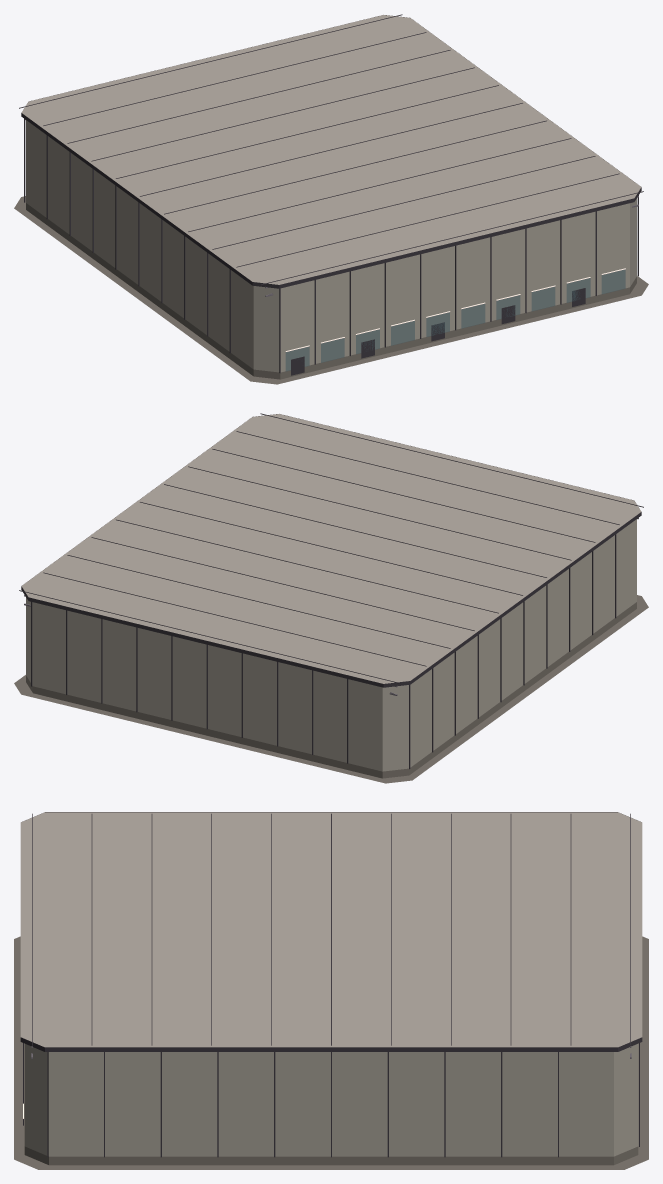
File: shell.glb
3 views of the same model, one above another, from view 1: azimuth 30°, elevation 25°; view 2: azimuth 150°, elevation 25°; view 3: azimuth 270°, elevation 25° (orthographic). The views are drawn at different scales.
Visible parts, largest first — view 1: shell_roof_canopy, shell_bowl_mass_cladding, shell_roof_canopy_fascia, shell_bowl_mass_suite_glass_lobby, shell_bowl_mass_plinth, shell_field_floor_apron, shell_bowl_mass_facade_panels, shell_bowl_mass_portal_frames; view 2: shell_roof_canopy, shell_bowl_mass_cladding, shell_roof_canopy_fascia, shell_bowl_mass_plinth, shell_field_floor_apron, shell_bowl_mass_facade_panels; view 3: shell_roof_canopy, shell_bowl_mass_cladding, shell_roof_canopy_fascia, shell_field_floor_apron, shell_bowl_mass_plinth, shell_bowl_mass_facade_panels.
Part boxes in pixels (x1,y1,x2,y2): shell_roof_canopy: (21, 15, 641, 284); shell_bowl_mass_cladding: (26, 120, 636, 372); shell_roof_canopy_fascia: (19, 14, 643, 288); shell_bowl_mass_suite_glass_lobby: (285, 269, 625, 371); shell_bowl_mass_plinth: (26, 203, 636, 379); shell_field_floor_apron: (14, 196, 648, 384); shell_bowl_mass_facade_panels: (24, 118, 638, 373); shell_bowl_mass_portal_frames: (291, 288, 585, 375); shell_roof_canopy: (21, 414, 641, 683); shell_bowl_mass_cladding: (26, 519, 636, 771); shell_roof_canopy_fascia: (19, 413, 643, 687); shell_bowl_mass_plinth: (26, 602, 636, 778); shell_field_floor_apron: (14, 595, 648, 783); shell_bowl_mass_facade_panels: (31, 534, 616, 769); shell_roof_canopy: (20, 812, 642, 1047); shell_bowl_mass_cladding: (24, 1044, 638, 1156); shell_roof_canopy_fascia: (20, 812, 642, 1051); shell_field_floor_apron: (14, 936, 648, 1169); shell_bowl_mass_plinth: (24, 1146, 638, 1165); shell_bowl_mass_facade_panels: (23, 1043, 639, 1157).
Bounding box in the file's own units: 70.5 × 16.38 × 78.5.
